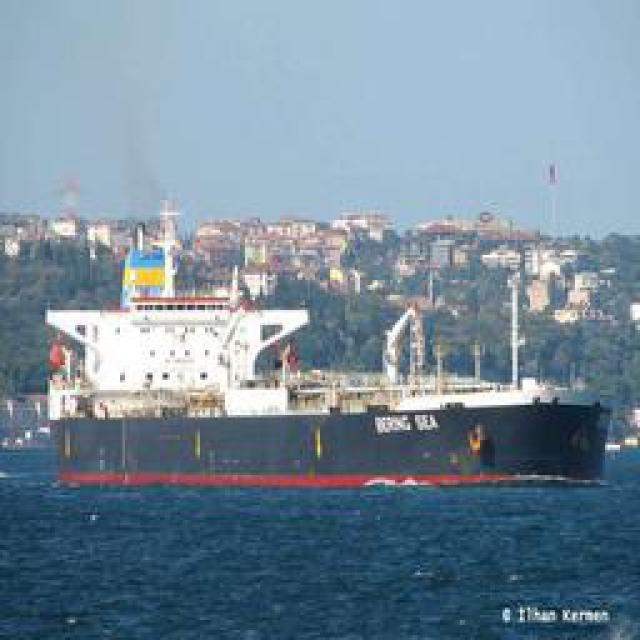Ship: (33, 307, 608, 497)
